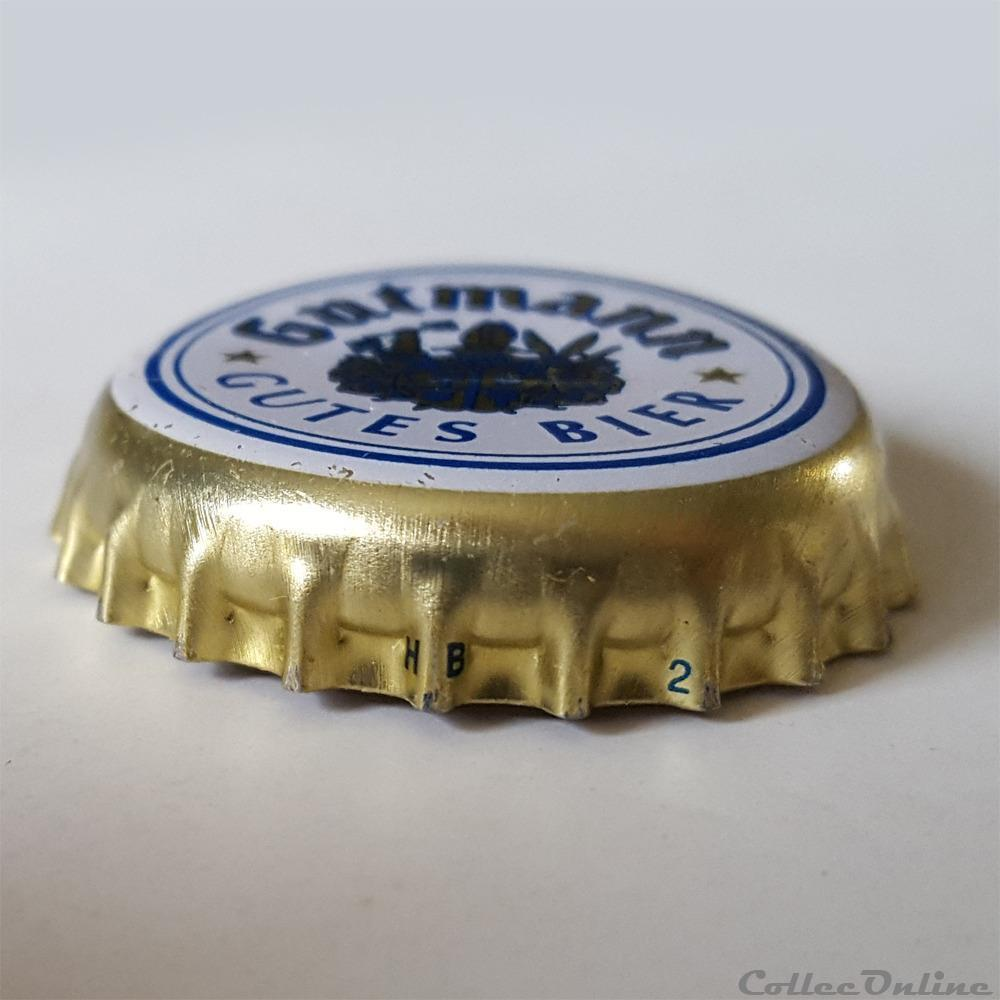metal: (52, 265, 917, 718)
